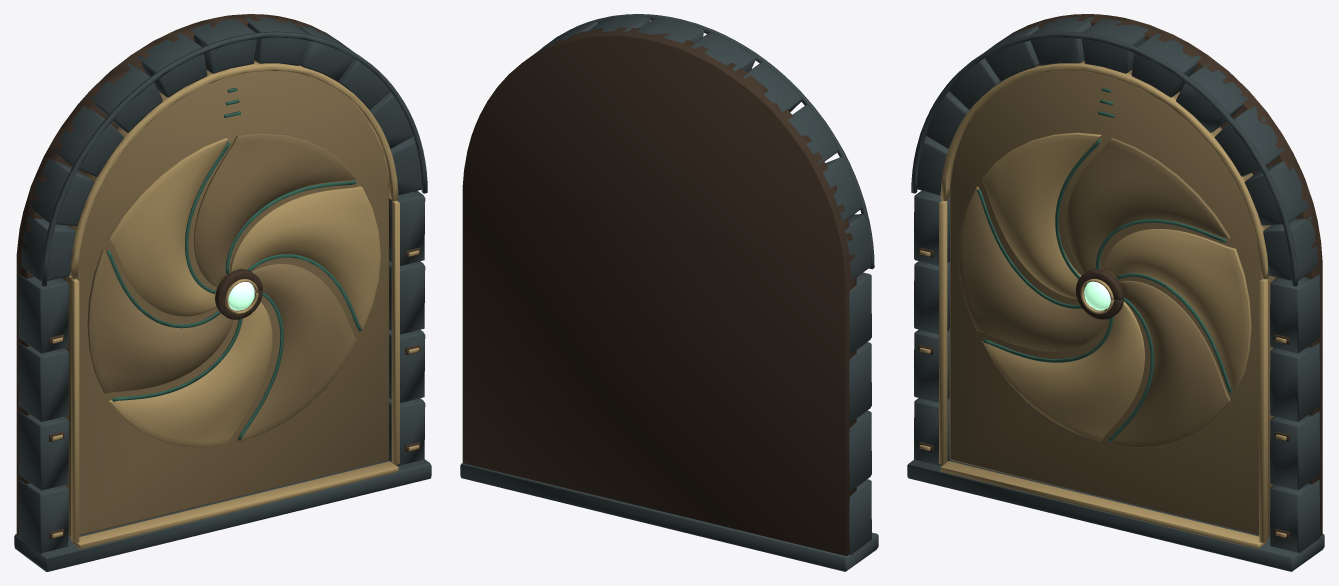
The model's file is vault-door.glb.
The picture shows the model from 3 angles, left to right: view 1: azimuth 30°, elevation 25°; view 2: azimuth 150°, elevation 25°; view 3: azimuth 330°, elevation 25°; orthographic projection.
Parts seen in each view (by area): view 1: vault-door; view 2: vault-door; view 3: vault-door.
Part boxes in pixels (x1,y1,x2,y2): vault-door: (14, 14, 431, 571); vault-door: (460, 14, 878, 571); vault-door: (907, 14, 1324, 571).
Size of the model in its own units: 4.99 by 5.98 by 0.8632.
